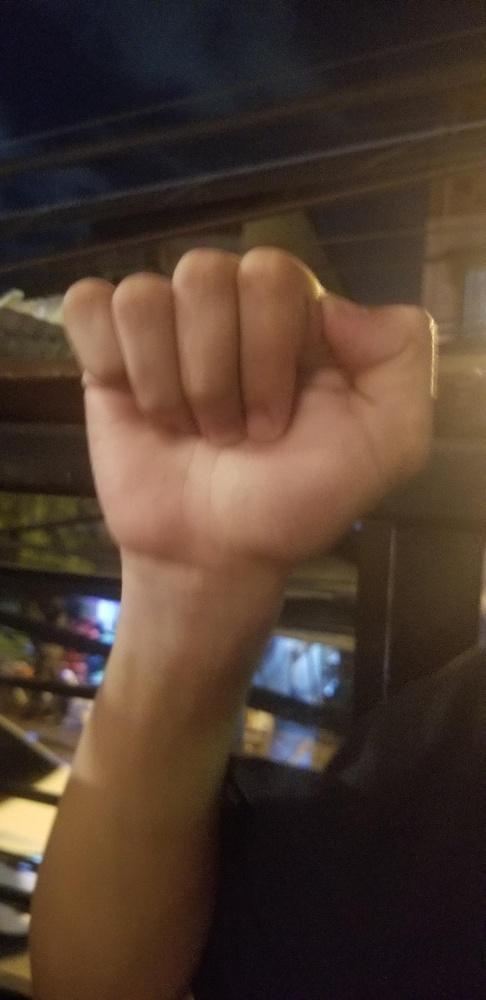a: (55, 239, 444, 570)
